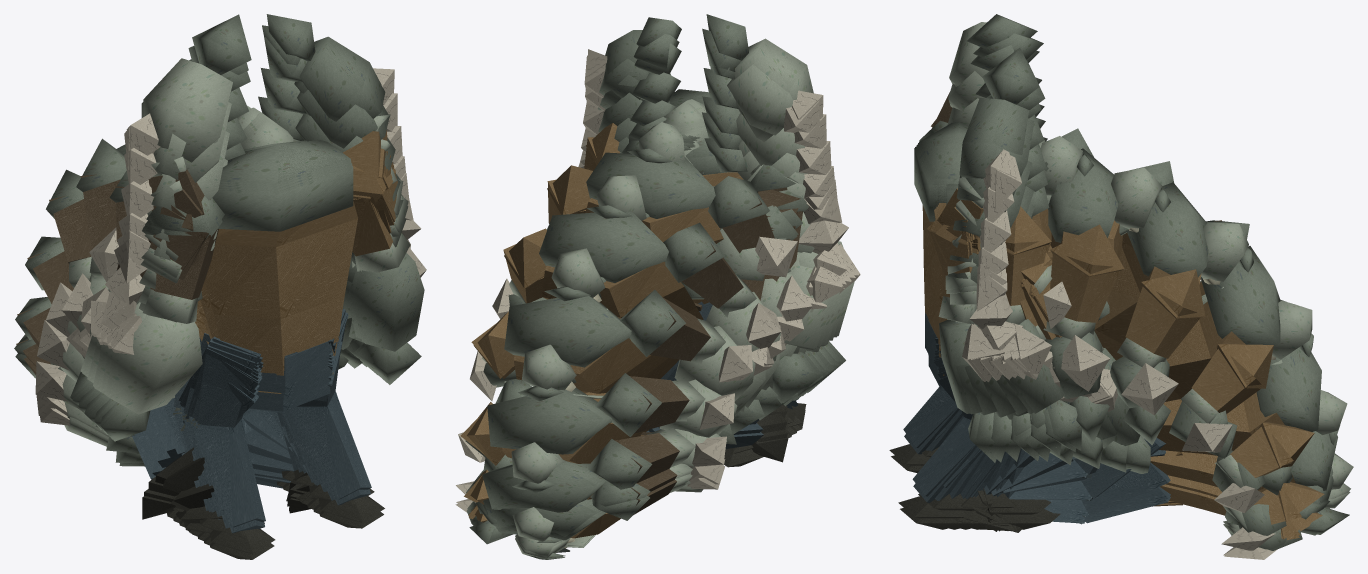
File: demolition_boss_far.glb
3 views of the same model, side by side, from view 1: azimuth 30°, elevation 25°; view 2: azimuth 150°, elevation 25°; view 3: azimuth 270°, elevation 25° (orthographic). The views are drawn at different scales.
Visible parts, largest first — view 1: windup_04, windup_08, walk_03, walk_09, windup_07, walk_02, windup_06, death_04, death_05, death_06, walk_08, walk_01 (+20 smaller); view 2: death_05, death_04, death_06, death_03, death_07, windup_08, windup_09, windup_06, death_08, death_02, death_09, walk_03 (+17 smaller); view 3: death_04, death_05, death_03, death_06, windup_08, death_07, death_02, windup_04, walk_02, walk_03, walk_09, walk_08 (+21 smaller).
Boxes of the visible parts, <box> form: windup_04: <box>117,119,409,393</box>; windup_08: <box>126,14,394,372</box>; walk_03: <box>70,195,426,537</box>; walk_09: <box>102,165,395,530</box>; windup_07: <box>124,37,397,501</box>; walk_02: <box>72,194,418,553</box>; windup_06: <box>121,68,402,420</box>; death_04: <box>62,138,309,509</box>; death_05: <box>45,169,307,501</box>; death_06: <box>25,236,303,506</box>; walk_08: <box>100,163,393,527</box>; walk_01: <box>78,208,411,559</box>; death_05: <box>470,290,787,417</box>; death_04: <box>492,210,788,453</box>; death_06: <box>458,373,787,492</box>; death_03: <box>546,152,812,432</box>; death_07: <box>456,413,786,542</box>; windup_08: <box>586,14,823,139</box>; windup_09: <box>584,28,820,142</box>; windup_06: <box>583,68,831,174</box>; death_08: <box>456,423,787,558</box>; death_02: <box>584,122,816,426</box>; death_09: <box>455,432,788,559</box>; walk_03: <box>683,129,842,423</box>; death_04: <box>973,161,1253,532</box>; death_05: <box>977,220,1313,518</box>; death_03: <box>963,128,1170,531</box>; death_06: <box>983,299,1347,516</box>; windup_08: <box>919,14,1039,351</box>; death_07: <box>987,431,1353,550</box>; death_02: <box>955,136,1093,529</box>; windup_04: <box>914,118,1047,371</box>; walk_02: <box>889,304,1025,522</box>; walk_03: <box>922,269,1007,526</box>; walk_09: <box>918,169,1081,510</box>; walk_08: <box>898,167,1075,518</box>.
Bounding box in the file's own units: 1.36 × 2.05 × 1.82.
1 material, 1 textured.
